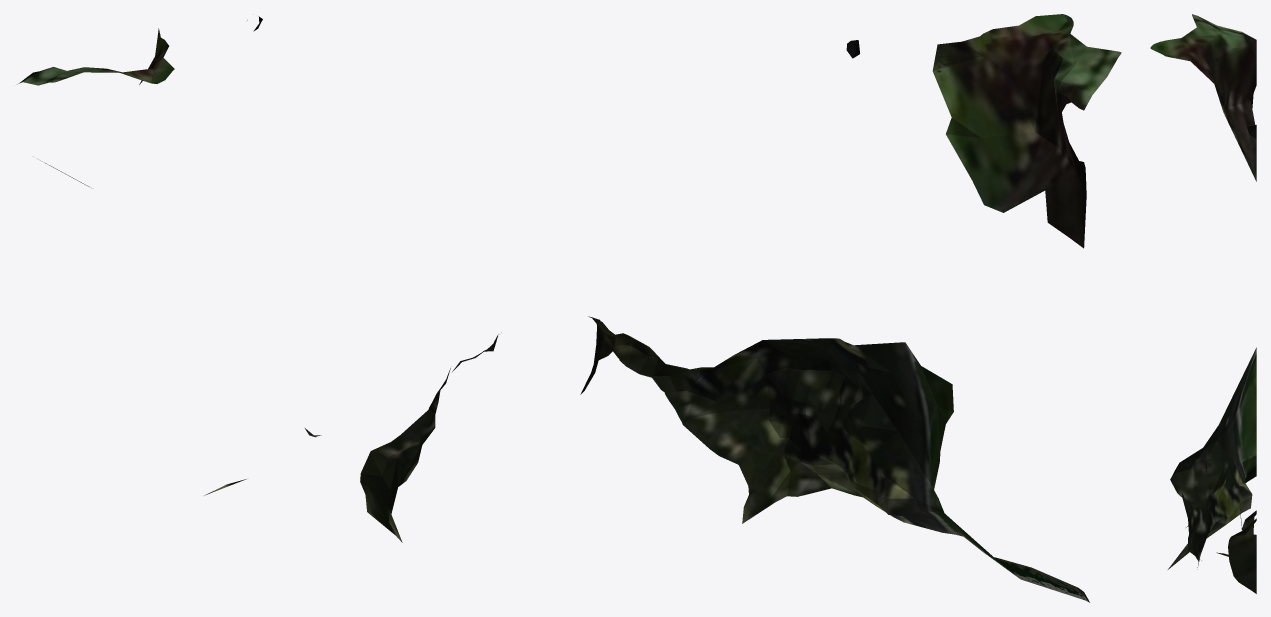
3 renders of one model, left to right at view 1: azimuth 30°, elevation 25°; view 2: azimuth 150°, elevation 25°; view 3: azimuth 270°, elevation 25°, orthographic. The views are drawn at different scales.
Size of the model in its own units: 1.67 by 1.67 by 0.3599.
1 material, 1 textured.
